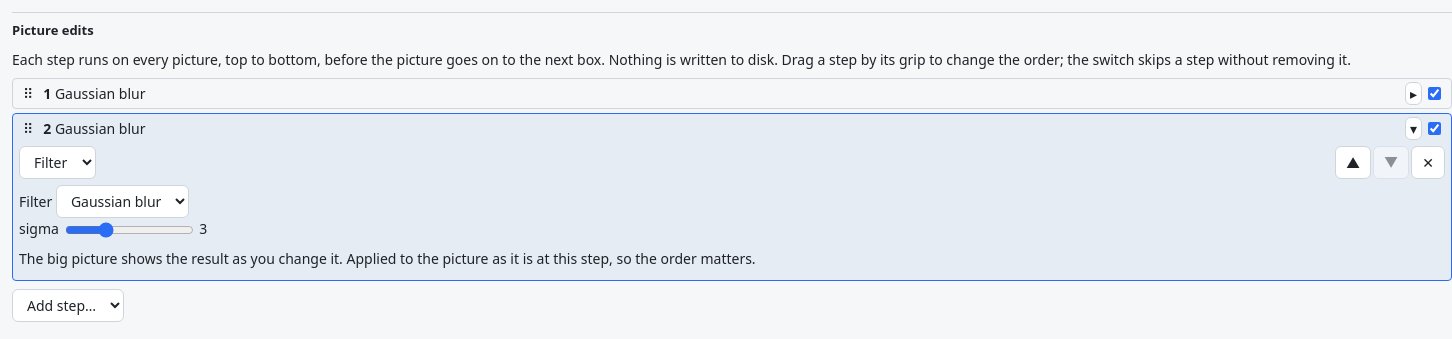
Test case: a collapsed step is one line: grip, name, arrow and the on/off switch, and a click on the line opens it
The image size is (1452, 339).
Expected: the picture named "Drag step 1" is shown, top-left (23, 84), bottom-right (33, 102)
Expected: the switch named "Step 1 on" is checked, top-left (1428, 86), bottom-right (1441, 100)
Click the text "Gaussian blur". click: x=94, y=93
box: top-left (43, 84), bottom-right (146, 102)
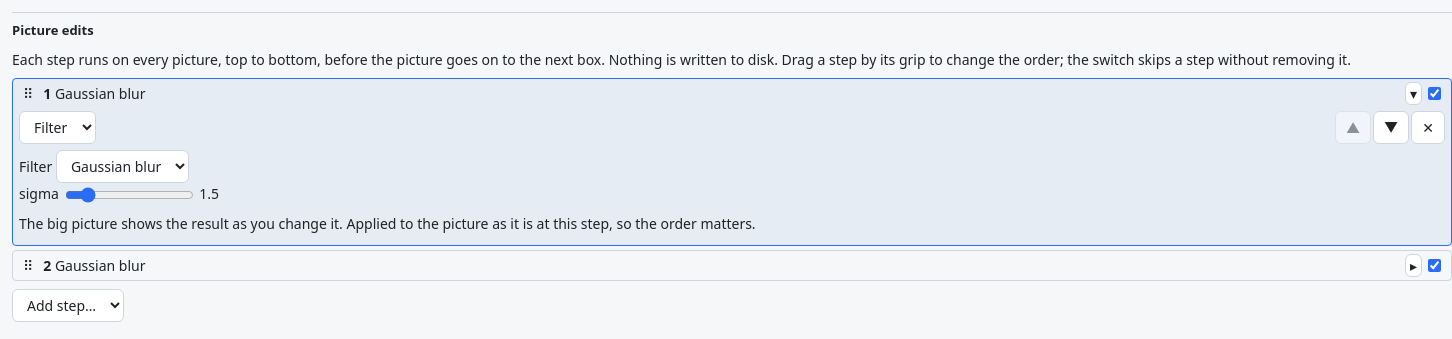
Expected: the slider labelled "sigma" holds "1.5", top-left (64, 187), bottom-right (194, 203)
